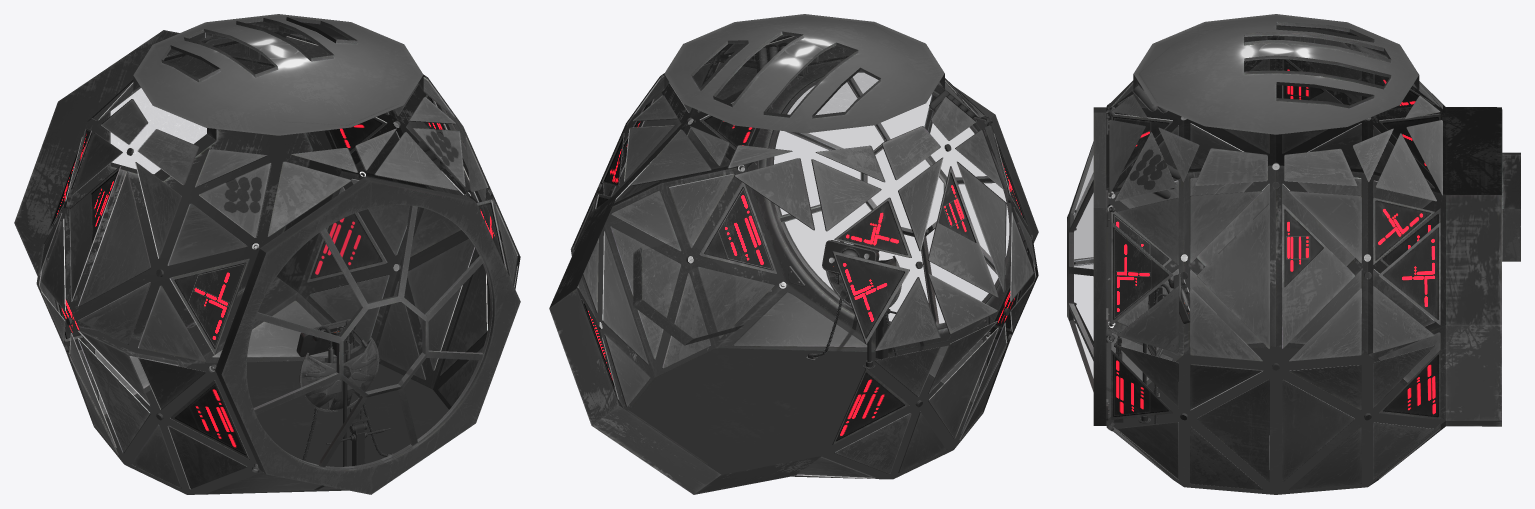
The picture shows the model from 3 angles, left to right: view 1: azimuth 30°, elevation 25°; view 2: azimuth 150°, elevation 25°; view 3: azimuth 270°, elevation 25°; orthographic projection. The views are drawn at different scales.
Visible parts, largest first — view 1: triangles, hull, window_front, hatch, canopy_brace, floor, triangles_lights, canopy_struts, detail_metal_painted_grey, window_top, window_back, detail_metal_painted_black (+2 smaller); view 2: triangles, hull, floor, hatch, triangles_lights, window_front, window_back, canopy_brace, window_top, canopy_struts, detail_metal_painted_black, canopy_struts_insets (+3 smaller); view 3: triangles, hull, hatch, triangles_lights, floor, canopy_brace, window_front, canopy_struts, window_top, detail_metal_painted_black, sensors, bolts_hull.
Part boxes in pixels (left/top/right/bottom): triangles: left=39, top=33, right=518, bottom=494; hull: left=14, top=21, right=520, bottom=494; window_front: left=258, top=205, right=480, bottom=467; hatch: left=133, top=14, right=423, bottom=135; canopy_brace: left=215, top=177, right=520, bottom=494; floor: left=94, top=361, right=448, bottom=494; triangles_lights: left=51, top=96, right=504, bottom=455; canopy_struts: left=253, top=205, right=492, bottom=469; detail_metal_painted_grey: left=299, top=337, right=379, bottom=412; window_top: left=165, top=22, right=328, bottom=78; window_back: left=111, top=89, right=206, bottom=173; detail_metal_painted_black: left=326, top=330, right=390, bottom=466; triangles: left=573, top=34, right=1036, bottom=478; hull: left=549, top=35, right=1038, bottom=494; floor: left=629, top=348, right=982, bottom=479; hatch: left=664, top=14, right=944, bottom=133; triangles_lights: left=584, top=103, right=1024, bottom=441; window_front: left=773, top=73, right=1008, bottom=322; window_back: left=634, top=239, right=734, bottom=344; canopy_brace: left=744, top=58, right=1038, bottom=352; window_top: left=716, top=35, right=877, bottom=114; canopy_struts: left=767, top=70, right=1011, bottom=328; detail_metal_painted_black: left=823, top=241, right=896, bottom=369; canopy_struts_insets: left=780, top=80, right=995, bottom=322; triangles: left=1109, top=36, right=1442, bottom=489; hull: left=1106, top=25, right=1520, bottom=487; hatch: left=1133, top=14, right=1418, bottom=134; triangles_lights: left=1113, top=60, right=1438, bottom=417; floor: left=1106, top=347, right=1445, bottom=494; canopy_brace: left=1093, top=107, right=1106, bottom=425; window_front: left=1069, top=146, right=1093, bottom=374; canopy_struts: left=1067, top=141, right=1093, bottom=391; window_top: left=1245, top=26, right=1388, bottom=85; detail_metal_painted_black: left=1114, top=278, right=1189, bottom=423; sensors: left=1132, top=83, right=1180, bottom=199; bolts_hull: left=1180, top=116, right=1371, bottom=420.
Bounding box in the file's own units: 2.56 × 2.2 × 2.42.
22 materials, 22 textured.
